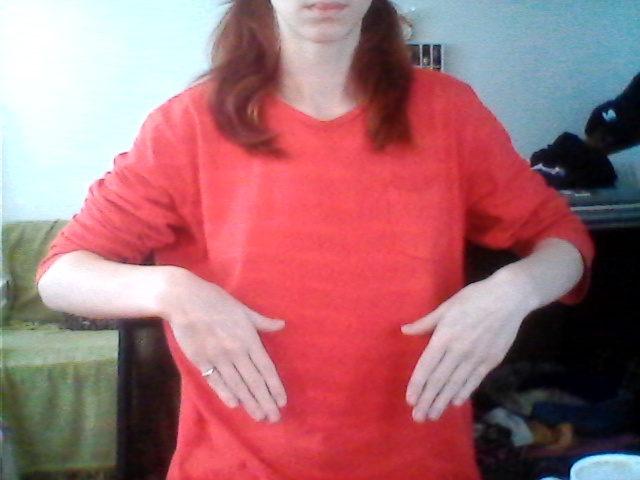zena: (173, 246, 496, 446)
